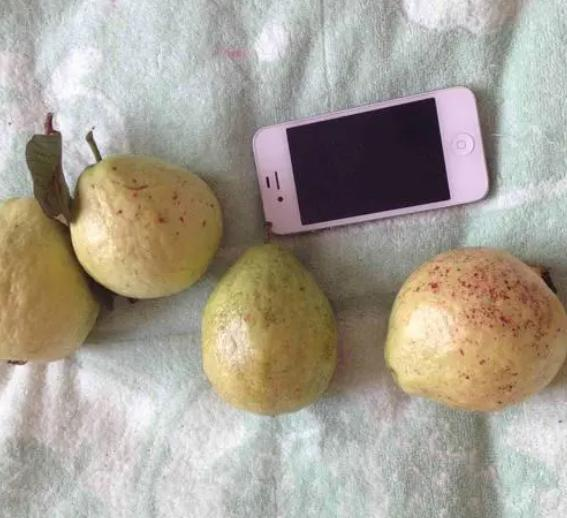guava_B: (383, 248, 567, 413), (201, 242, 337, 417), (69, 152, 223, 299), (1, 198, 101, 362)
